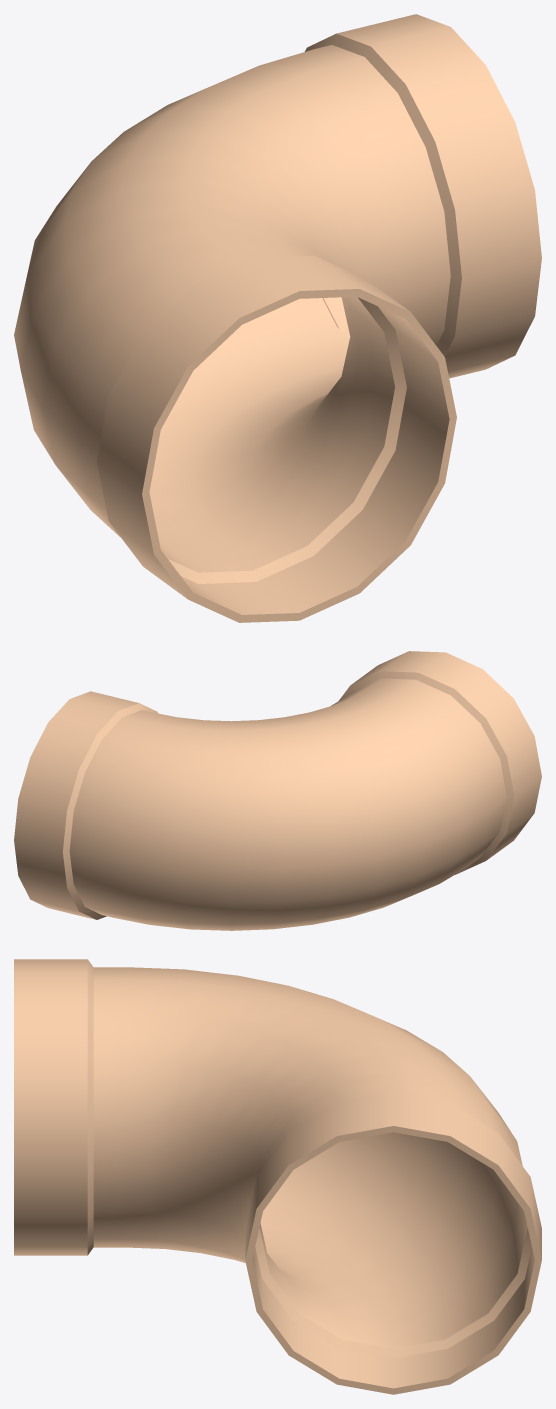
3 renders of one model, top to bottom at view 1: azimuth 30°, elevation 25°; view 2: azimuth 150°, elevation 25°; view 3: azimuth 270°, elevation 25°, orthographic. The views are drawn at different scales.
Parts seen in each view (by area): view 1: ??; view 2: ??; view 3: ??.
Part boxes in pixels (x1,y1,x2,y2): ??: (14,14,541,622); ??: (14,651,541,930); ??: (14,959,541,1394).
Size of the model in its own units: 3639 by 2116 by 3765.
